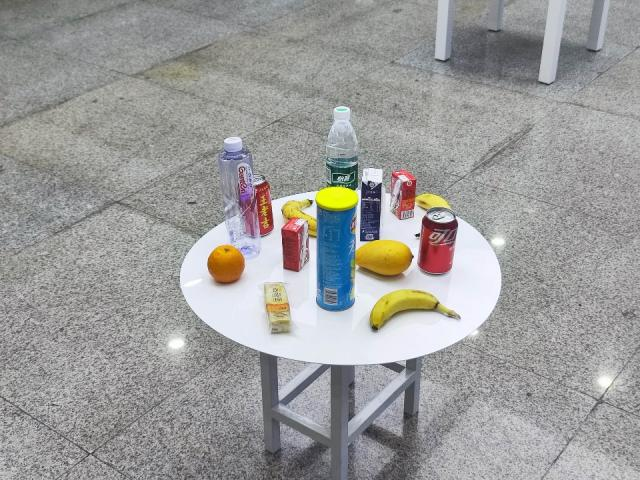Canned_drinks: (417, 208, 457, 280)
bottle: (215, 144, 268, 260)
cylinder: (311, 184, 369, 324)
drink_box: (389, 171, 425, 236), (361, 167, 386, 242)
